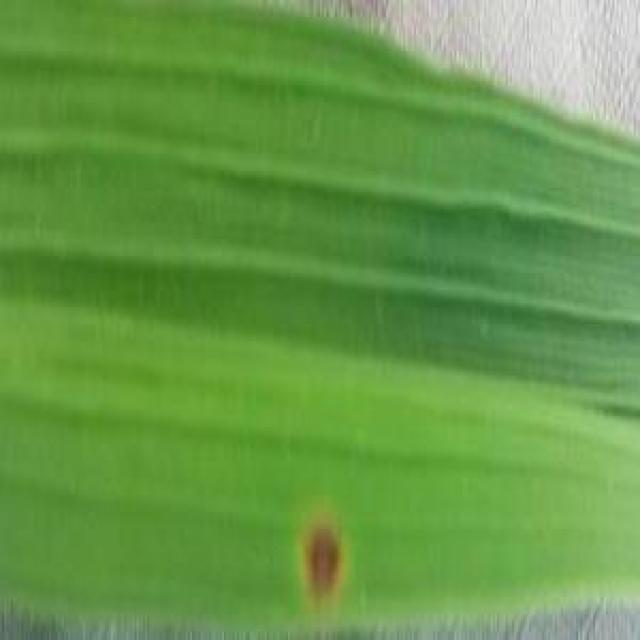brownspots: (269, 516, 380, 606)
